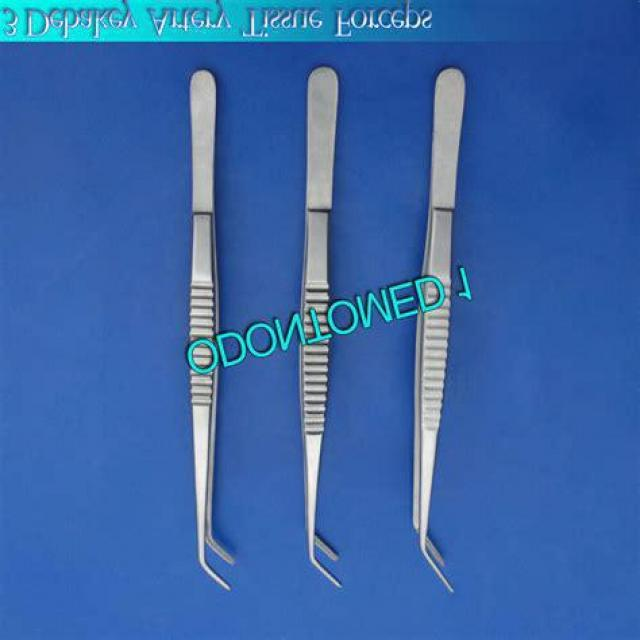Forceps: (407, 62, 472, 598), (182, 64, 242, 598), (292, 63, 348, 594)
